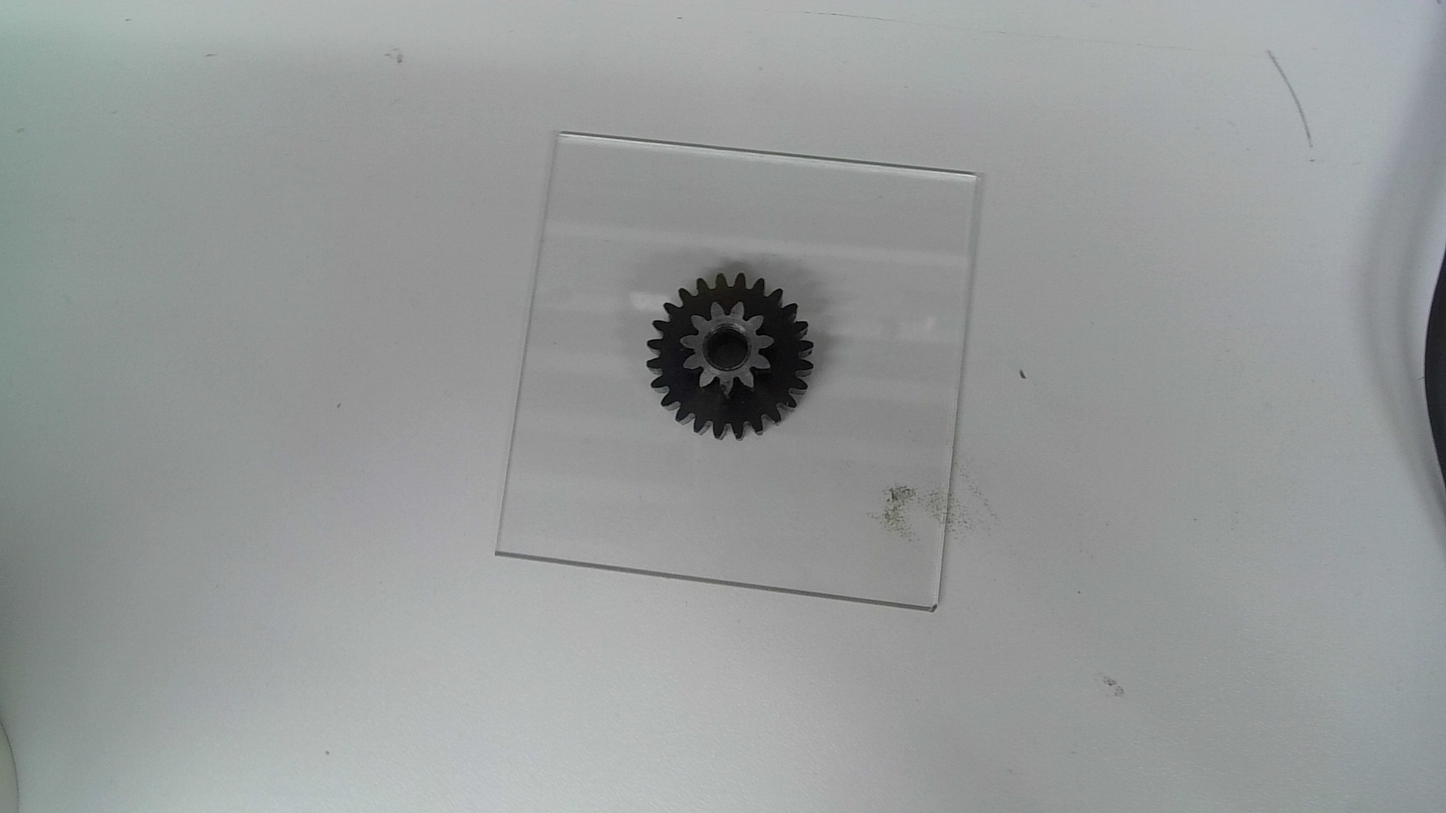gear: (646, 272, 816, 445)
